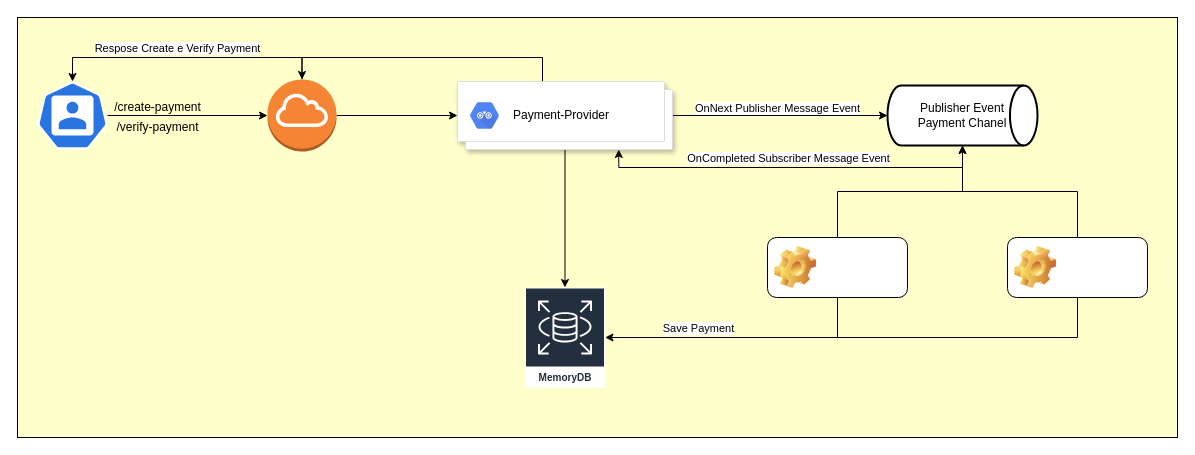
Image size: 1195x455. Some labels were removed from this diagram. The centre of each missing label's shape, as x and y in pixels:
"Subscriber Processor 1" goes at point (837, 267).
"Subscriber Processor 2" goes at point (1077, 267).
